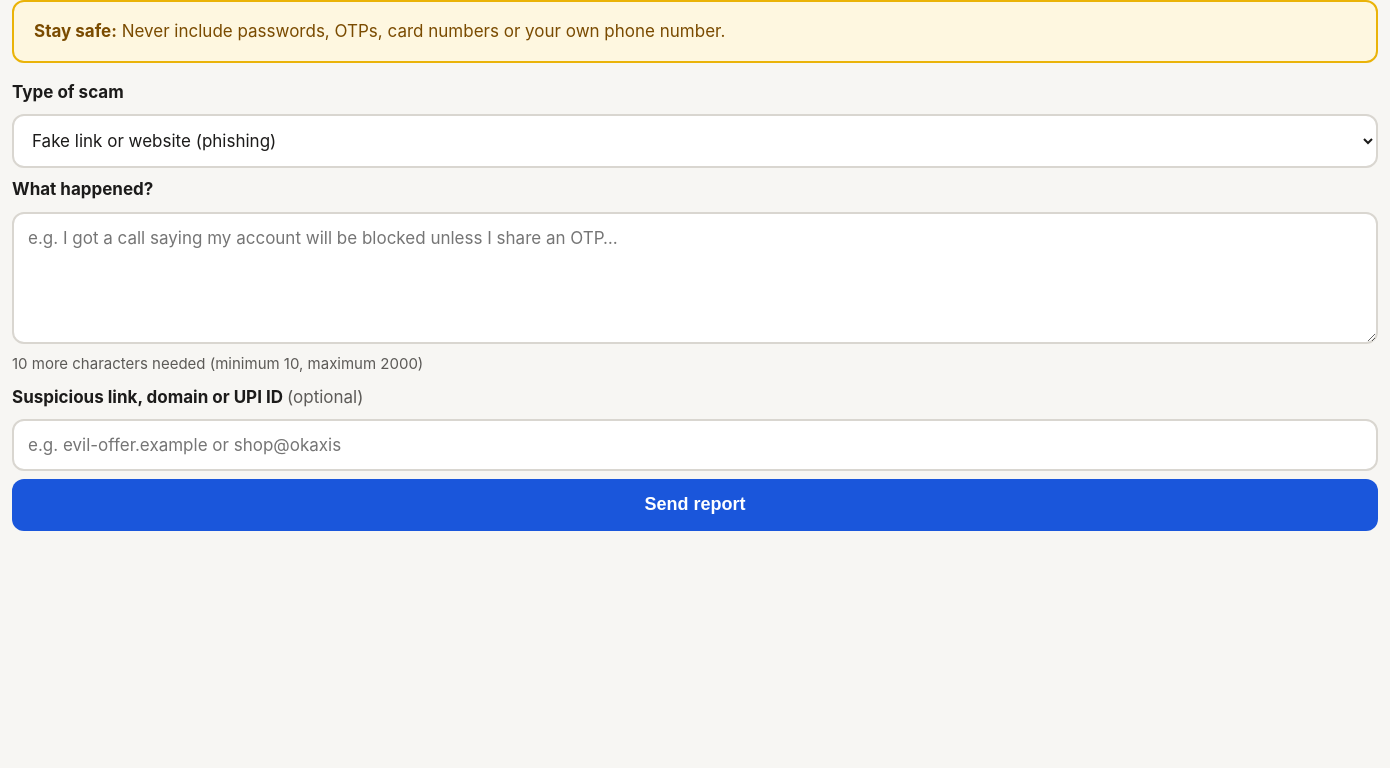
it: ReportForm validation › maps 409 duplicates to a friendly message
This screenshot has width=1390, height=768.
Replace the text in the text box labelled "What happened?" with "Someone called pretending to be the bank manager today." at [695, 278], box 12,212 -> 1378,344
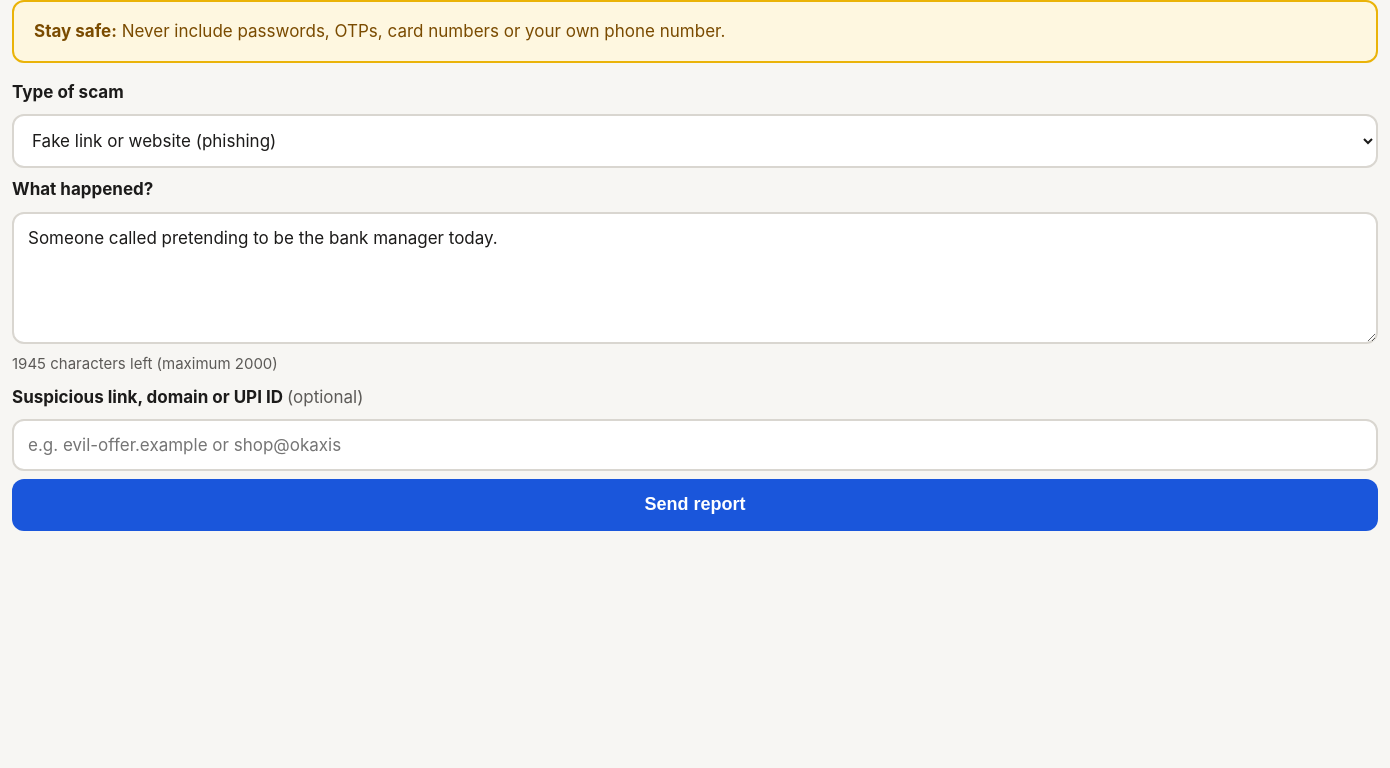
Click the button "Send report" at [695, 505], box 12,479 -> 1378,531
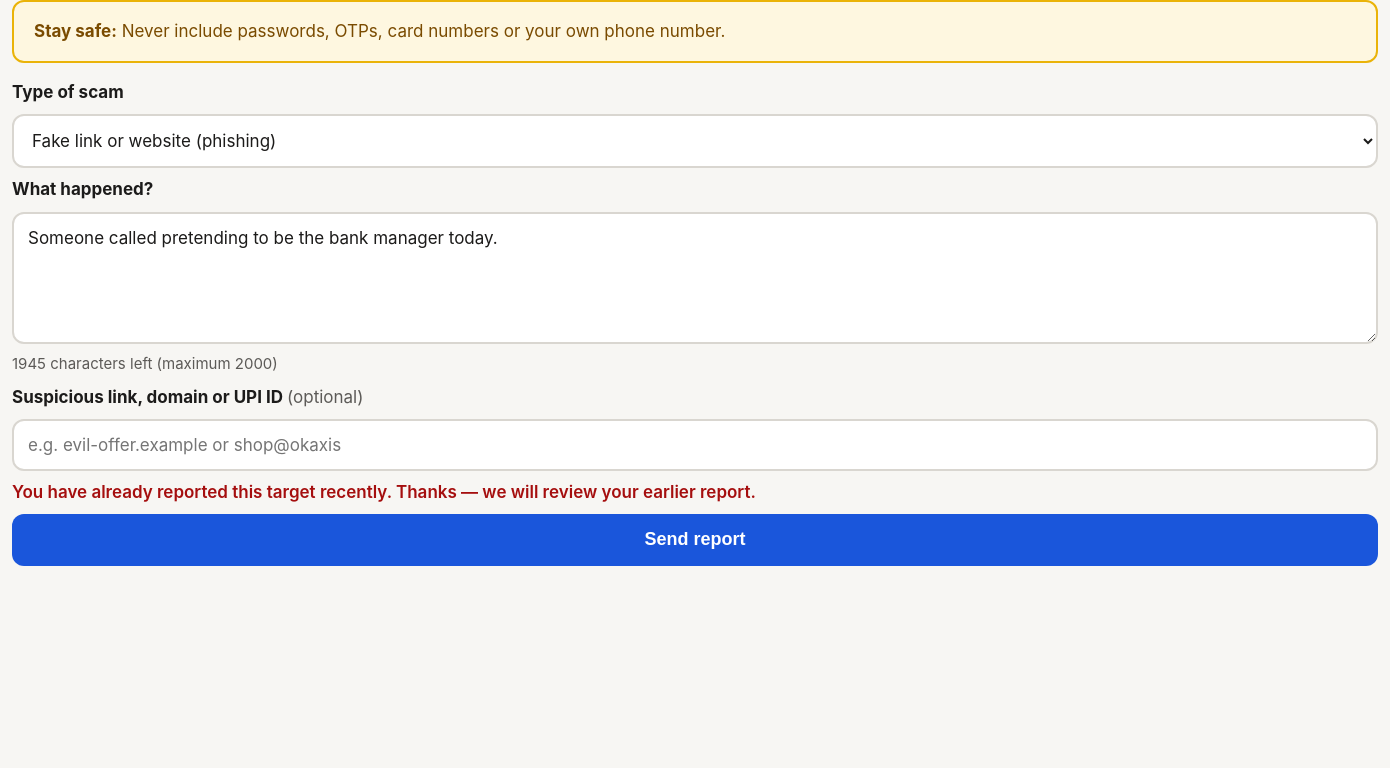
Now the message shows "already reported", box 12,482 -> 756,502
